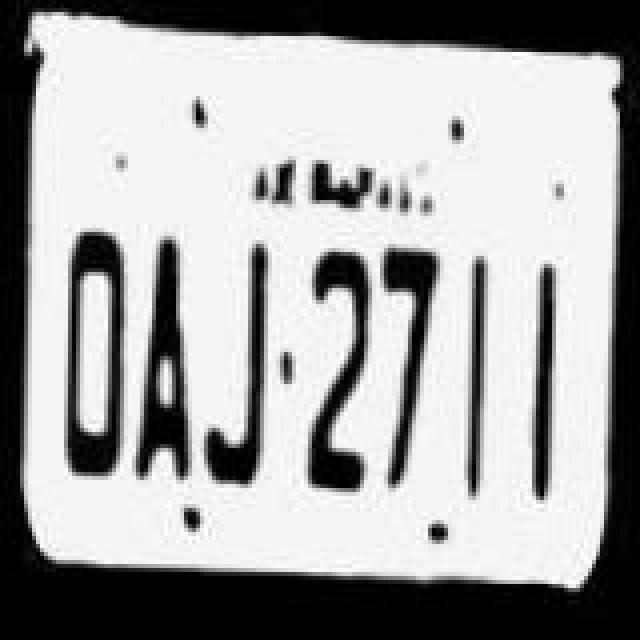1: (514, 246, 570, 510), (450, 244, 506, 492)
2: (294, 238, 374, 490)
7: (374, 238, 446, 494)
A: (130, 234, 202, 486)
J: (196, 232, 280, 488)
O: (54, 222, 134, 478)
